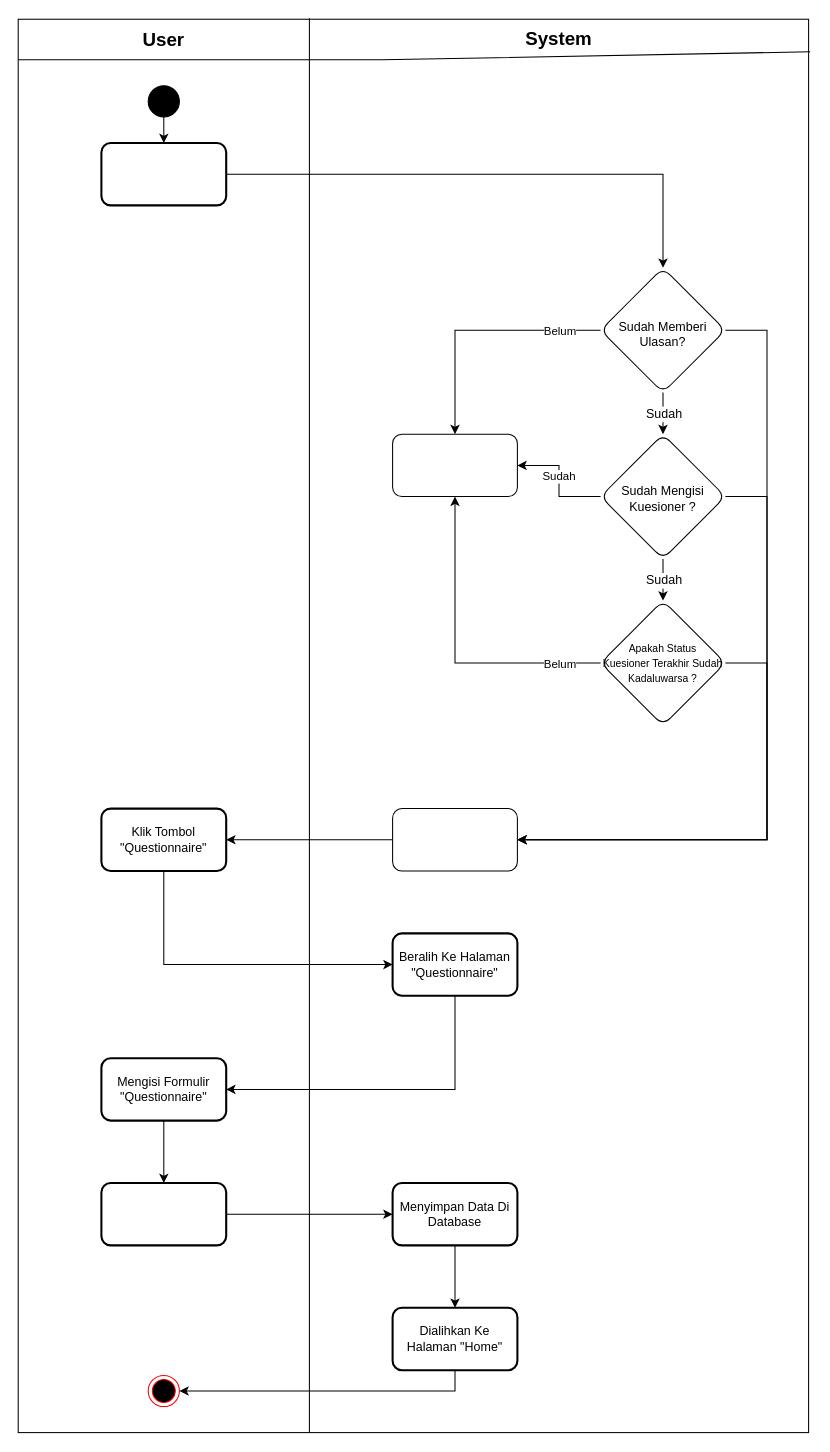
Image size: 830x1452. Some labels were removed from this diagram. Each missing label, with the box of its shape:
Hastinulc Makeup Art: (100, 141, 227, 206)
Klik Tombol "Submit": (100, 1181, 227, 1246)
Tombol "Questionnaire" Di Aktifkan: (392, 808, 517, 871)
Tombol "Questionnaire" Di Non-Aktifkan: (392, 433, 517, 497)
